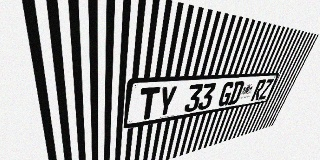3: (183, 84, 204, 113), (197, 83, 217, 110)
D: (227, 81, 245, 105)
G: (217, 81, 235, 107)
R: (250, 79, 267, 101)
T: (138, 87, 160, 121)
Y: (156, 85, 178, 118)
Z: (258, 79, 274, 100)
